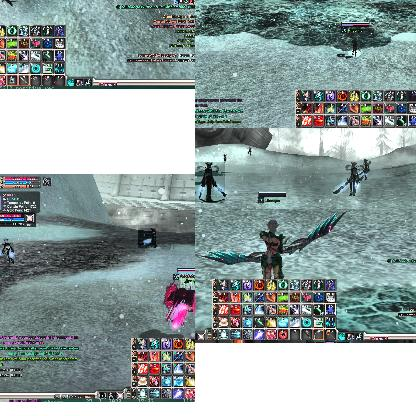caliana: (195, 162, 225, 202), (332, 161, 360, 197), (0, 238, 14, 264), (138, 228, 156, 248), (360, 159, 372, 181), (246, 146, 252, 156), (222, 154, 226, 162)
